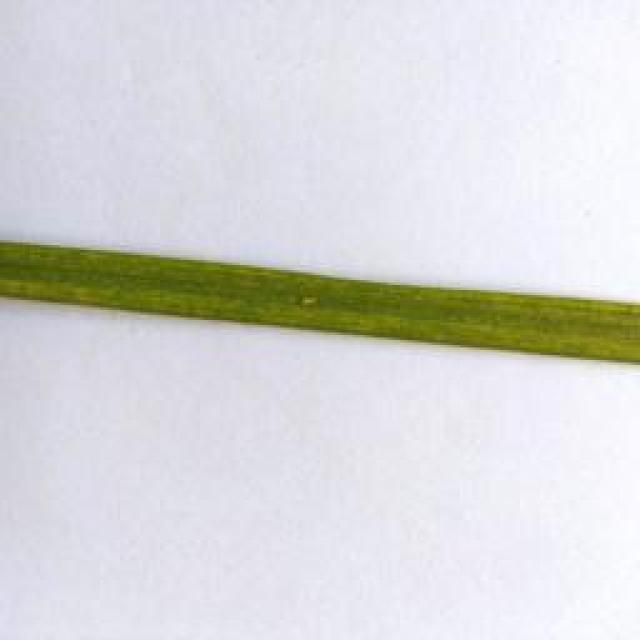Healthy-Plant: (0, 234, 640, 372)
